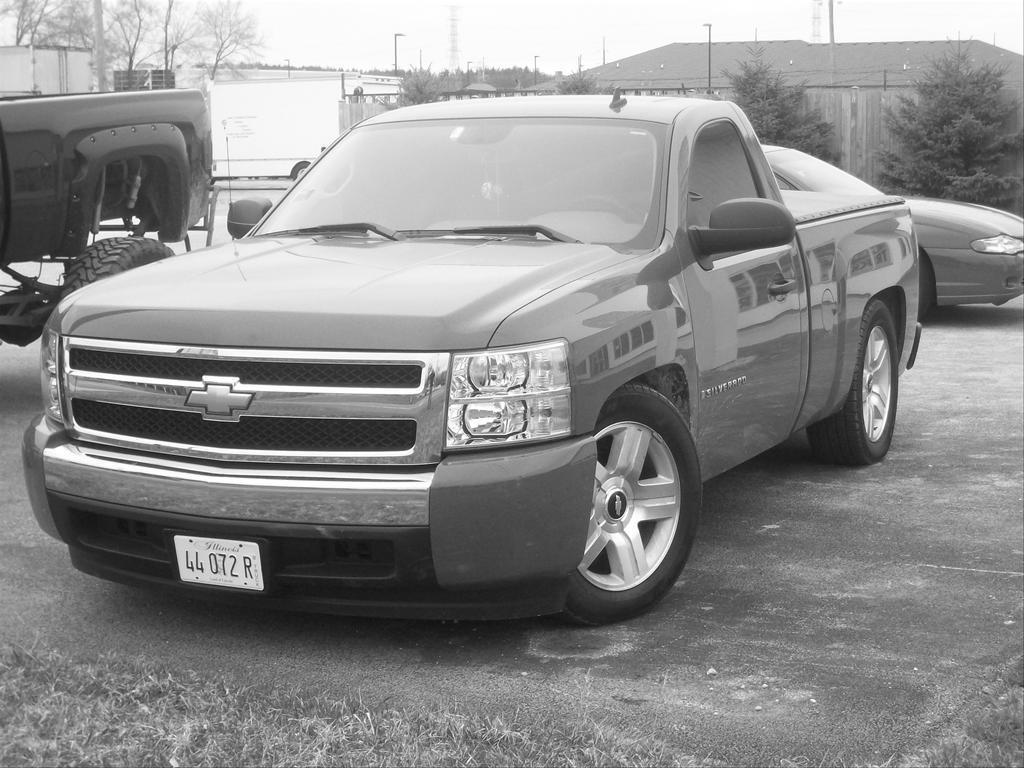car: (22, 89, 921, 629)
